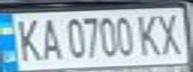0: (115, 12, 139, 57), (63, 15, 84, 60), (97, 14, 118, 58)
7: (81, 13, 100, 60)
A: (33, 15, 63, 62)
K: (9, 15, 45, 63), (133, 11, 166, 57)
X: (151, 9, 187, 56)
